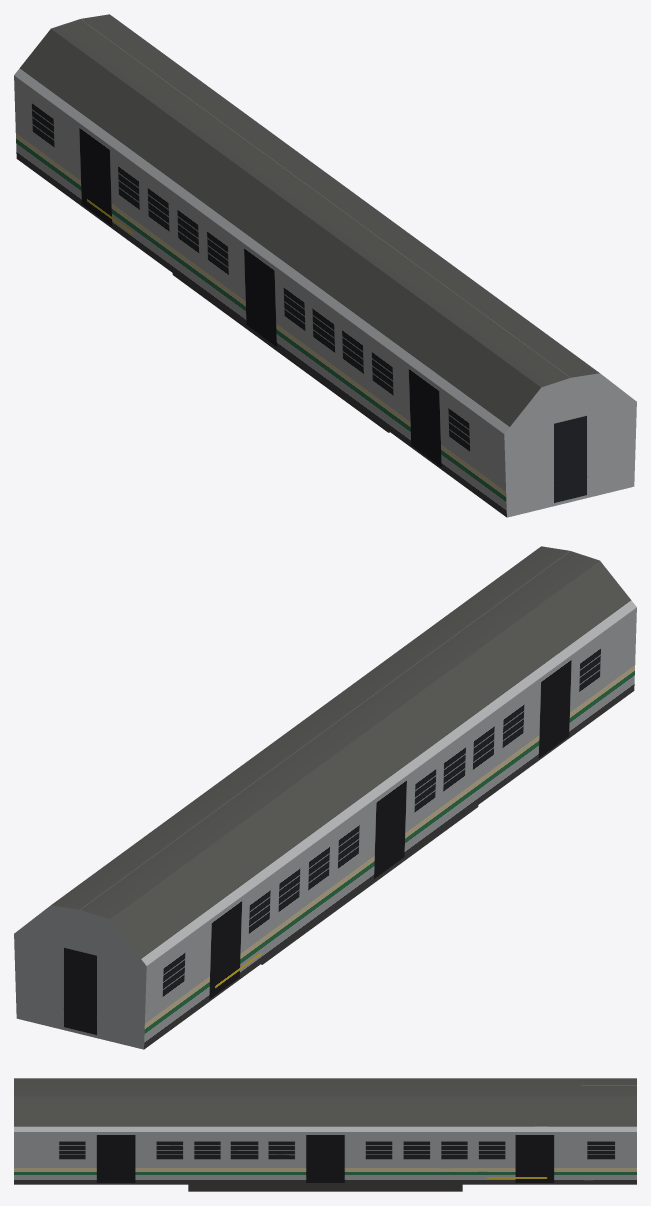
Rendered from emu_motor_lod2.glb.
3 views of the same model, one above another, from view 1: azimuth 30°, elevation 25°; view 2: azimuth 150°, elevation 25°; view 3: azimuth 270°, elevation 25° (orthographic). The views are drawn at different scales.
Parts seen in each view (by area): view 1: body; view 2: body; view 3: body.
Part boxes in pixels (<box>): body: <box>14,14,636,517</box>; body: <box>14,546,636,1049</box>; body: <box>14,1078,636,1191</box>.
Bounding box in the file's own units: 3.25 × 3.38 × 20.8.
2 materials, 2 textured.
